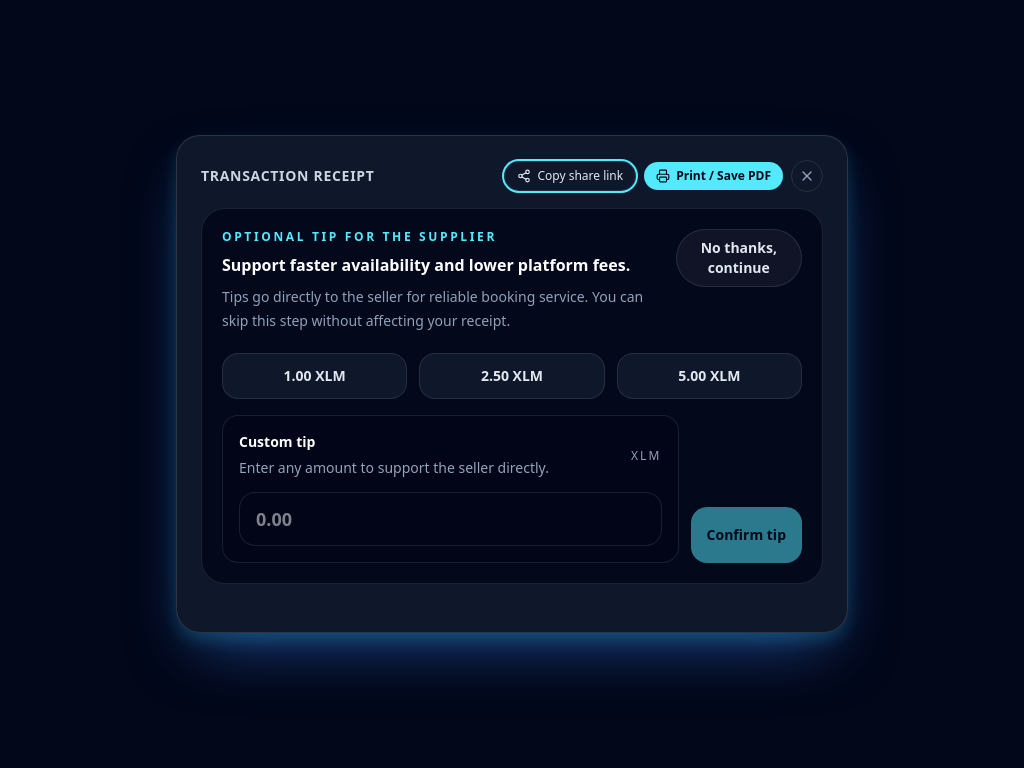
ReceiptModal › shows share preview after confirming tip
What coordinates should you click on to do the following:
click the button "2.50 XLM"
I would click on:
 (512, 376)
Its box is [419,353,605,399].
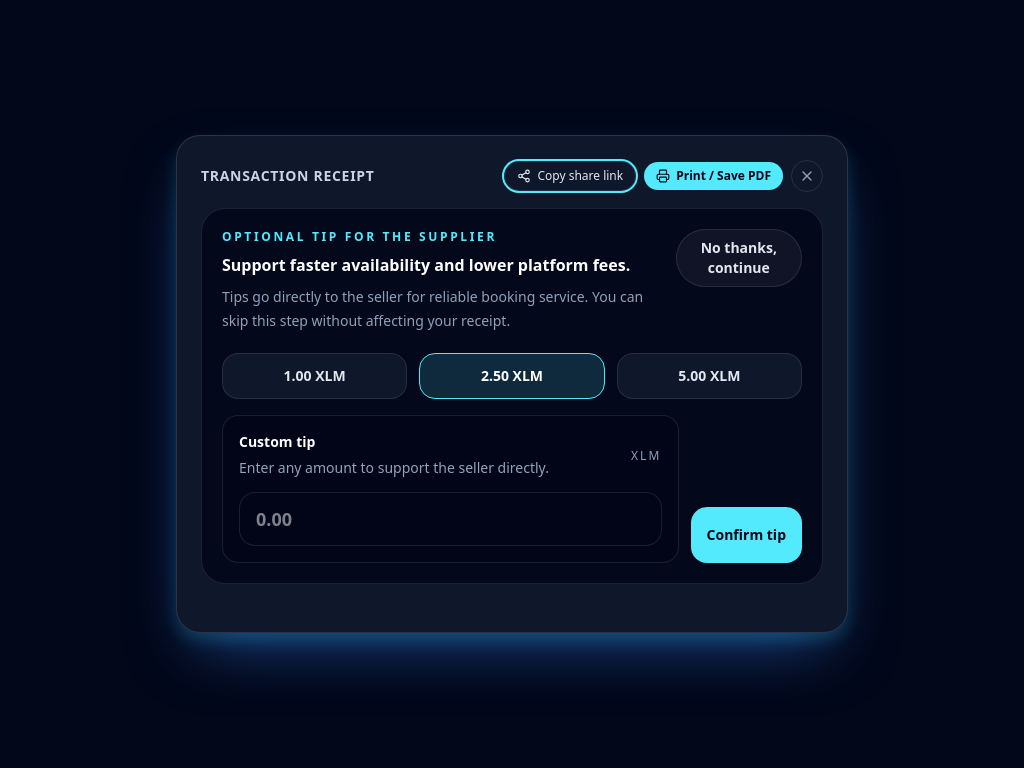
What coordinates should you click on to do the following:
click the button "Confirm tip"
I would click on:
 (746, 535)
Its box is [691,507,802,563].
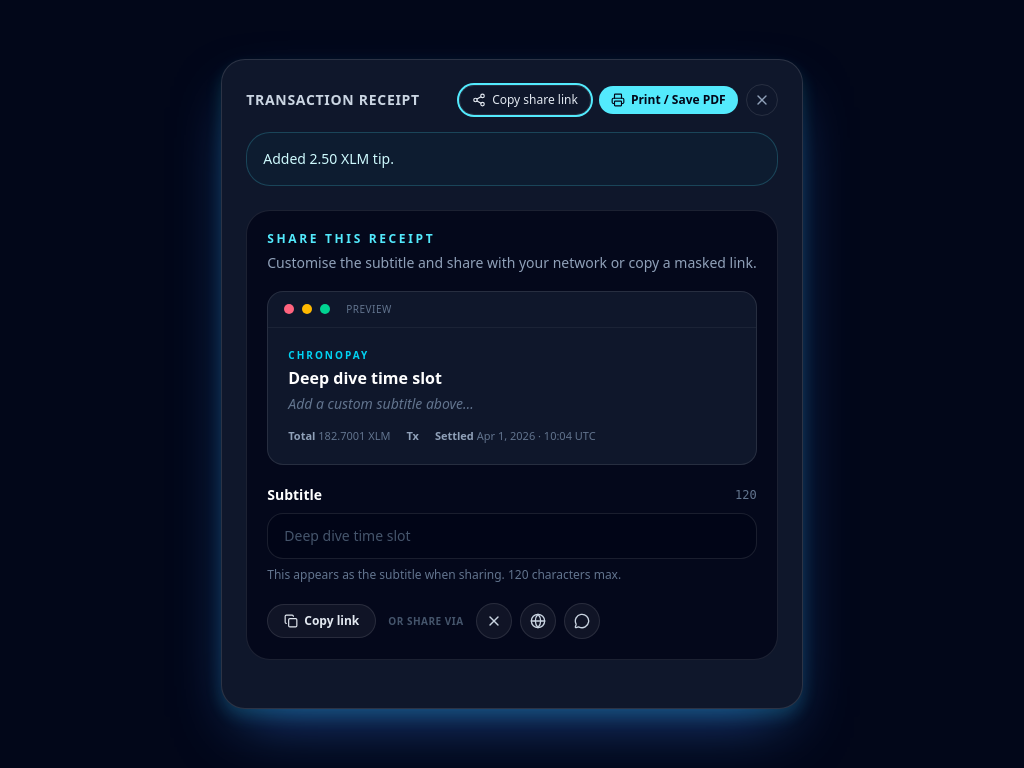
Now the heading "Share this receipt" is shown, box [267,230,435,247]
